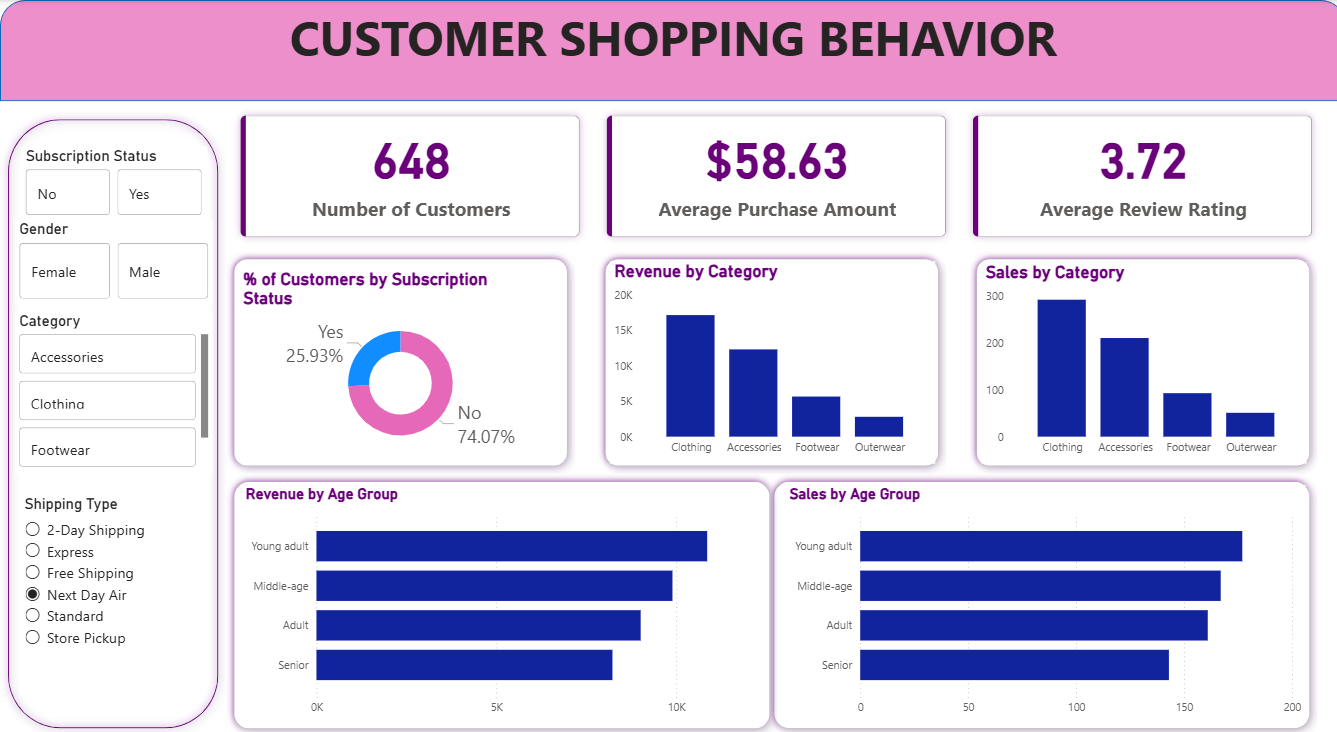

The page's visual inventory and layout, read from the dashboard file:
{"tool":"powerbi","page":{"name":"Page 1","canvas":[1500,820],"ordinal":0},"visuals":[{"type":"cardVisual","fields":{"Data":["customer_shopping_behavior customer.Number of Customers","customer_shopping_behavior customer.Average Purchase Amount","customer_shopping_behavior customer.Average Review Rating"]},"box":[252.1,112.8,1228.3,167.1],"z":0},{"type":"shape","box":[0,0,1499.9,112.8],"z":1000},{"type":"textbox","box":[0,0,1499.9,98.9],"z":2000},{"type":"shape","box":[252.1,279.9,388.6,247.9],"z":3000},{"type":"donutChart","title":"% of Customers by Subscription Status","fields":{"Category":["customer_shopping_behavior customer.subscription_status"],"Y":["CountNonNull(customer_shopping_behavior customer.customer_id)"]},"box":[266,299.4,360.7,207.5],"z":4000},{"type":"shape","box":[665.7,279.9,388.6,247.9],"z":5000},{"type":"shape","box":[1079.3,279.9,388.6,247.9],"z":6000},{"type":"clusteredColumnChart","title":"Revenue by Category","fields":{"Y":["Sum(customer_shopping_behavior customer.purchase_amount)"],"Category":["customer_shopping_behavior customer.category"]},"box":[679.6,291.1,362.1,225.6],"z":7000},{"type":"clusteredColumnChart","title":"Sales by Category","fields":{"Y":["CountNonNull(customer_shopping_behavior customer.customer_id)"],"Category":["customer_shopping_behavior customer.category"]},"box":[1093.2,292.5,362.1,224.2],"z":8000},{"type":"shape","box":[0,123.9,252.1,696.3],"z":9000},{"type":"advancedSlicerVisual","fields":{"Values":["customer_shopping_behavior customer.subscription_status"]},"box":[23.7,162.9,207.5,82.2],"z":10000},{"type":"advancedSlicerVisual","fields":{"Values":["customer_shopping_behavior customer.gender"]},"box":[16.7,245.1,220,93.3],"z":11000},{"type":"advancedSlicerVisual","fields":{"Values":["customer_shopping_behavior customer.category"]},"box":[16.7,346.8,220,181],"z":12000},{"type":"listSlicer","fields":{"Values":["customer_shopping_behavior customer.shipping_type"]},"box":[22.3,551.5,207.5,224.2],"z":13000},{"type":"shape","box":[853.7,527.8,614.2,292.5],"z":14000},{"type":"clusteredBarChart","title":"Sales by Age Group","fields":{"Y":["CountNonNull(customer_shopping_behavior customer.customer_id)"],"Category":["customer_shopping_behavior customer.age_group"]},"box":[874.3,540,580,265.7],"z":15000},{"type":"shape","box":[251.4,527.1,614.3,292.9],"z":16000},{"type":"clusteredBarChart","title":"Revenue by Age Group","fields":{"Y":["Sum(customer_shopping_behavior customer.purchase_amount)"],"Category":["customer_shopping_behavior customer.age_group"]},"box":[268.6,540,580,265.7],"z":17000}]}

Visuals, with their boxes in screenshot pixels (x1, y1, x2, y2), scaled from the page's 1500x820 canvas onto the 1337x732 screenshot:
cardVisual - customer_shopping_behavior customer.Number of Customers x customer_shopping_behavior customer.Average Purchase Amount: (x1=225, y1=101, x2=1320, y2=250)
shape: (x1=0, y1=0, x2=1336, y2=101)
textbox: (x1=0, y1=0, x2=1336, y2=88)
shape: (x1=225, y1=250, x2=571, y2=471)
"% of Customers by Subscription Status" donutChart: (x1=237, y1=267, x2=559, y2=453)
shape: (x1=593, y1=250, x2=940, y2=471)
shape: (x1=962, y1=250, x2=1308, y2=471)
"Revenue by Category" clusteredColumnChart: (x1=606, y1=260, x2=929, y2=461)
"Sales by Category" clusteredColumnChart: (x1=974, y1=261, x2=1297, y2=461)
shape: (x1=0, y1=111, x2=225, y2=731)
advancedSlicerVisual - customer_shopping_behavior customer.subscription_status: (x1=21, y1=145, x2=206, y2=219)
advancedSlicerVisual - customer_shopping_behavior customer.gender: (x1=15, y1=219, x2=211, y2=302)
advancedSlicerVisual - customer_shopping_behavior customer.category: (x1=15, y1=310, x2=211, y2=471)
listSlicer - customer_shopping_behavior customer.shipping_type: (x1=20, y1=492, x2=205, y2=692)
shape: (x1=761, y1=471, x2=1308, y2=731)
"Sales by Age Group" clusteredBarChart: (x1=779, y1=482, x2=1296, y2=719)
shape: (x1=224, y1=471, x2=772, y2=731)
"Revenue by Age Group" clusteredBarChart: (x1=239, y1=482, x2=756, y2=719)
